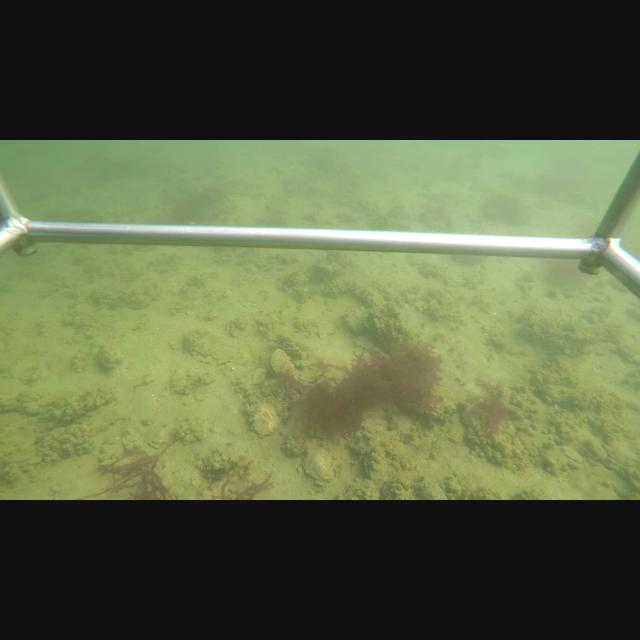Oyster-Closed: (301, 442, 337, 484), (247, 401, 284, 440)
Oyster-Open: (264, 349, 298, 376)
